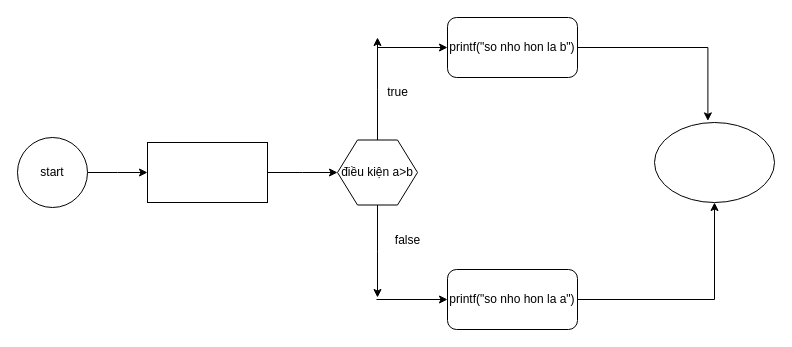
This 792x347 diagram has some shape labels left out. The shapes that lost their labels are listed below. From the top down, each one's centre as x and y in pixels, then its label:
At [207,172]: "input a,b".
At [714,162]: "end".
